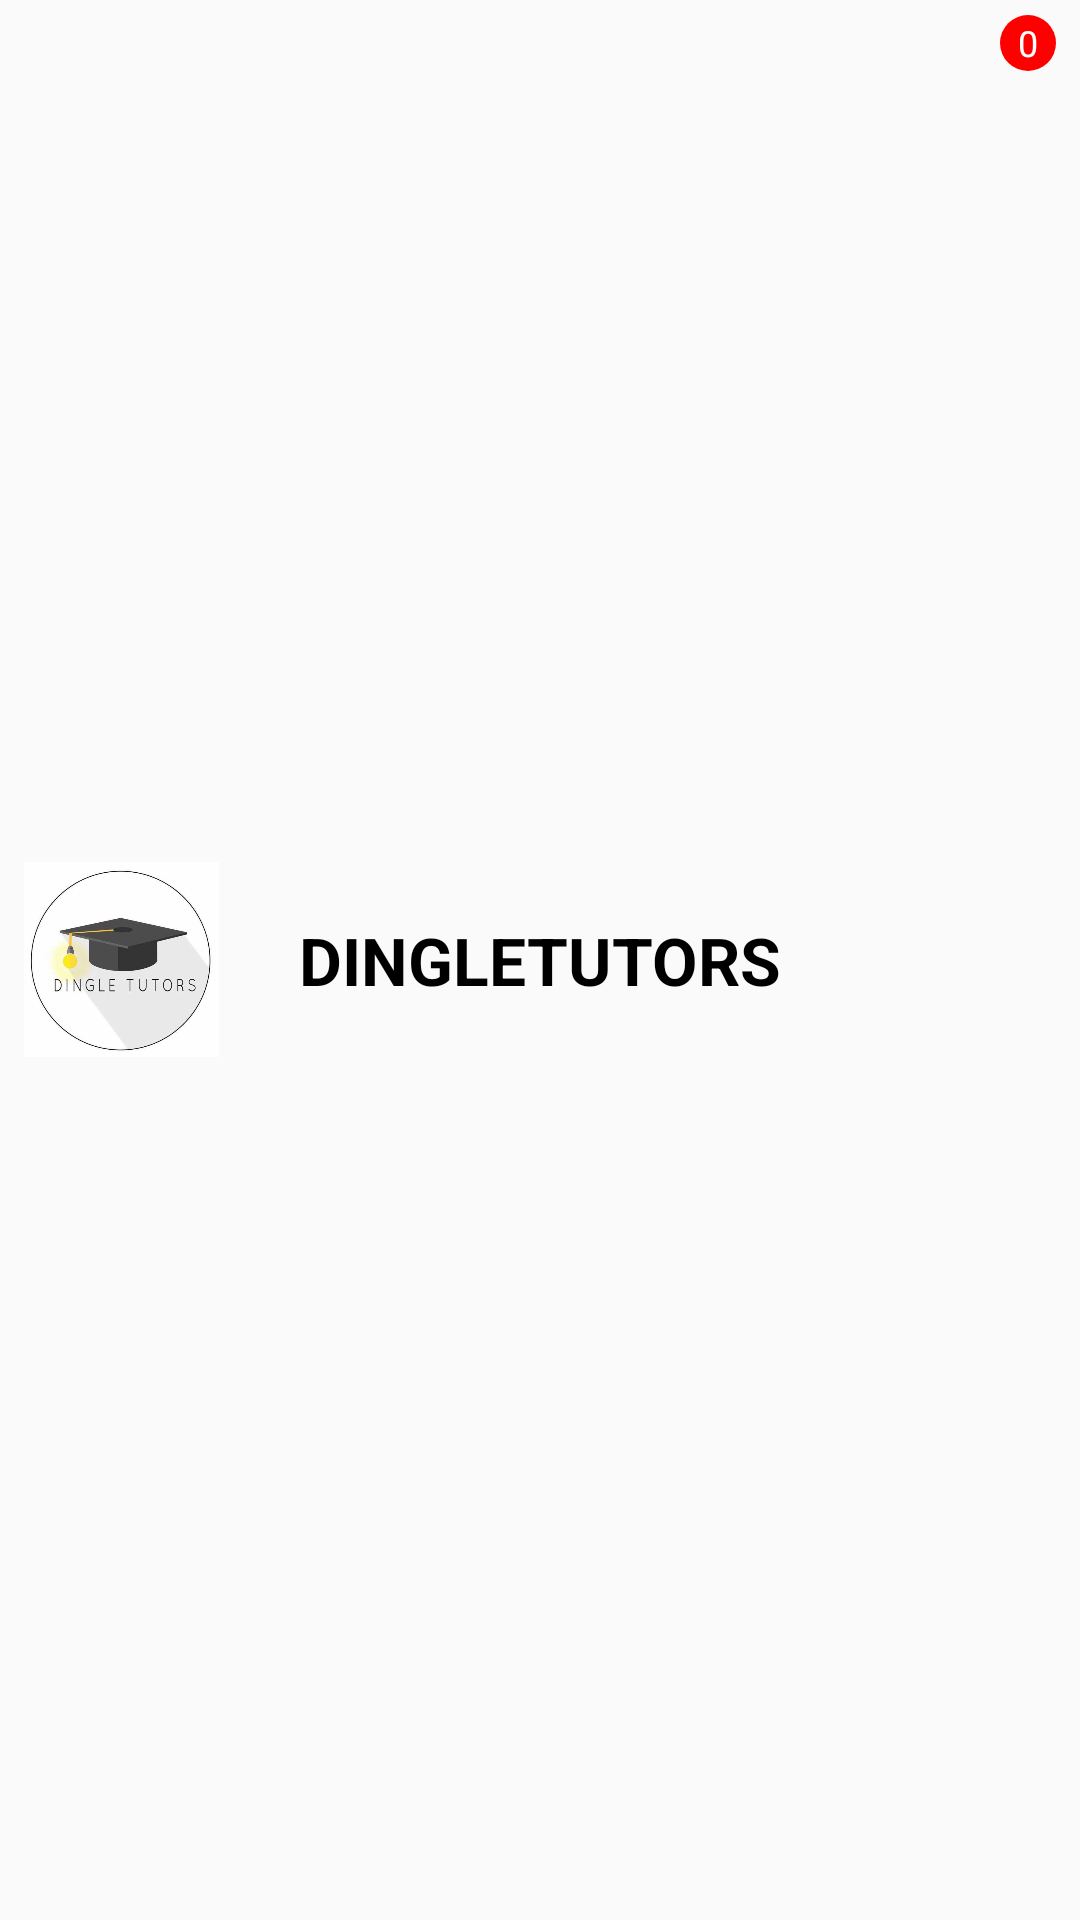

Where icons sit on this 1080px x 1920px app screen, as (x1, y1, x2, y2):
notification circle: (1000, 15, 1056, 71)
